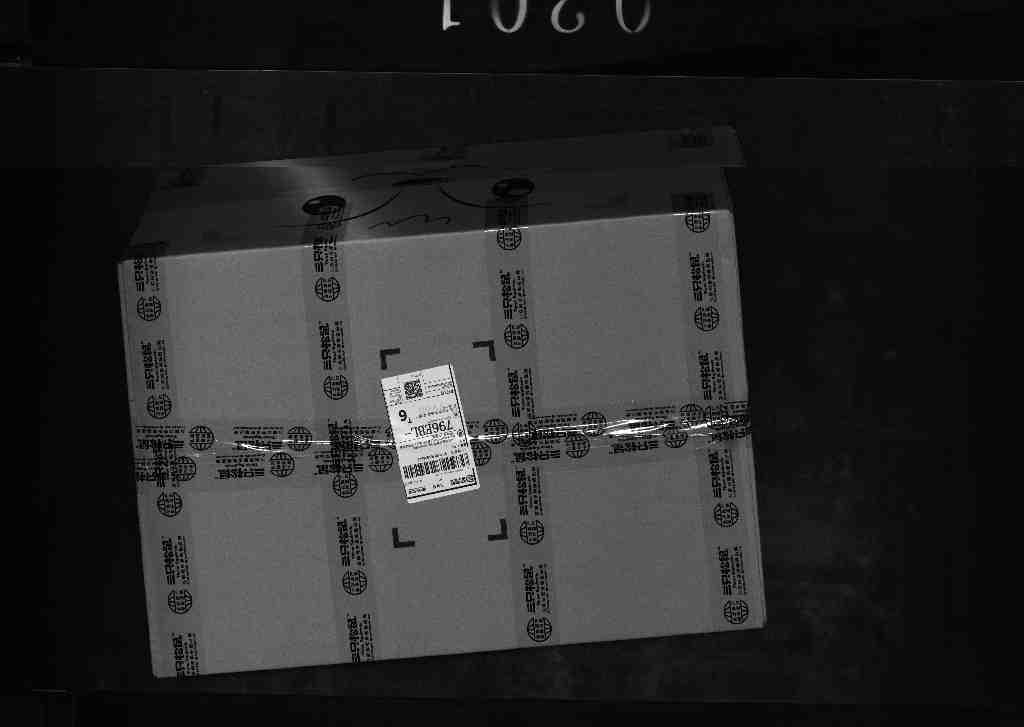box: (111, 151, 778, 660)
